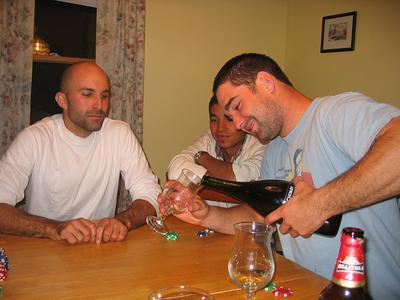person: (156, 54, 399, 299)
